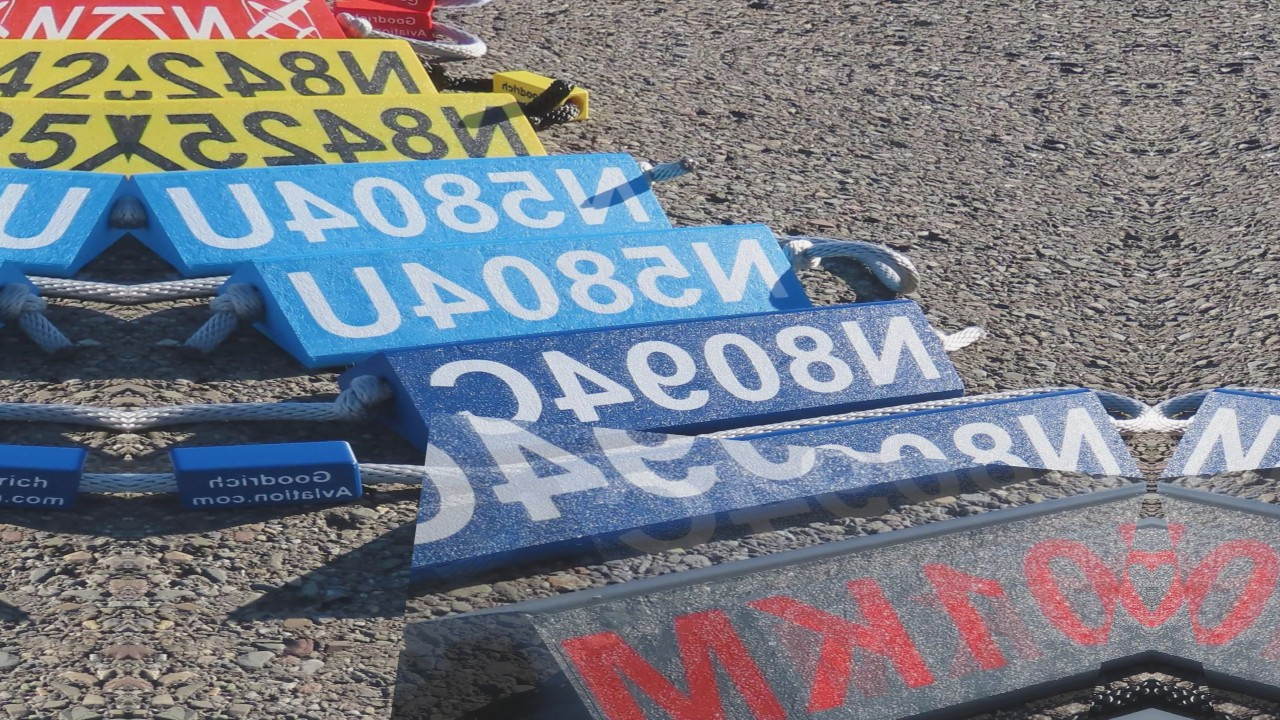chock: (340, 392, 1152, 720), (444, 310, 1152, 669), (298, 231, 988, 537), (184, 158, 829, 436), (624, 442, 1152, 720), (128, 83, 697, 337), (128, 35, 584, 248), (128, 0, 478, 146), (1152, 310, 1280, 669), (1152, 392, 1280, 720), (1152, 442, 1280, 720), (0, 83, 128, 337), (0, 35, 128, 248), (0, 158, 72, 436), (0, 0, 128, 146)
